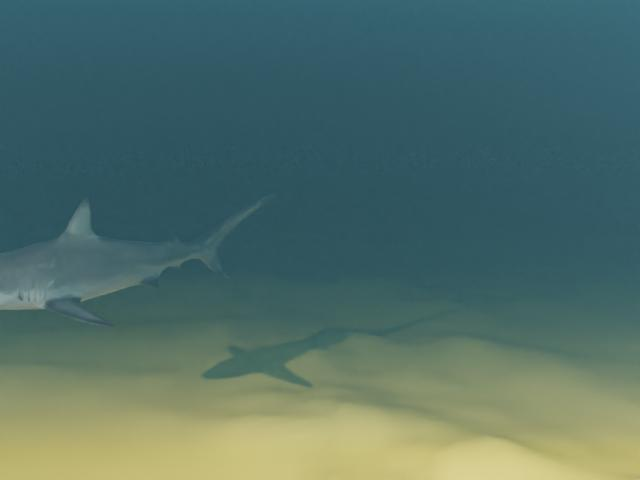Carribean Shark.001: (0, 194, 275, 328)
